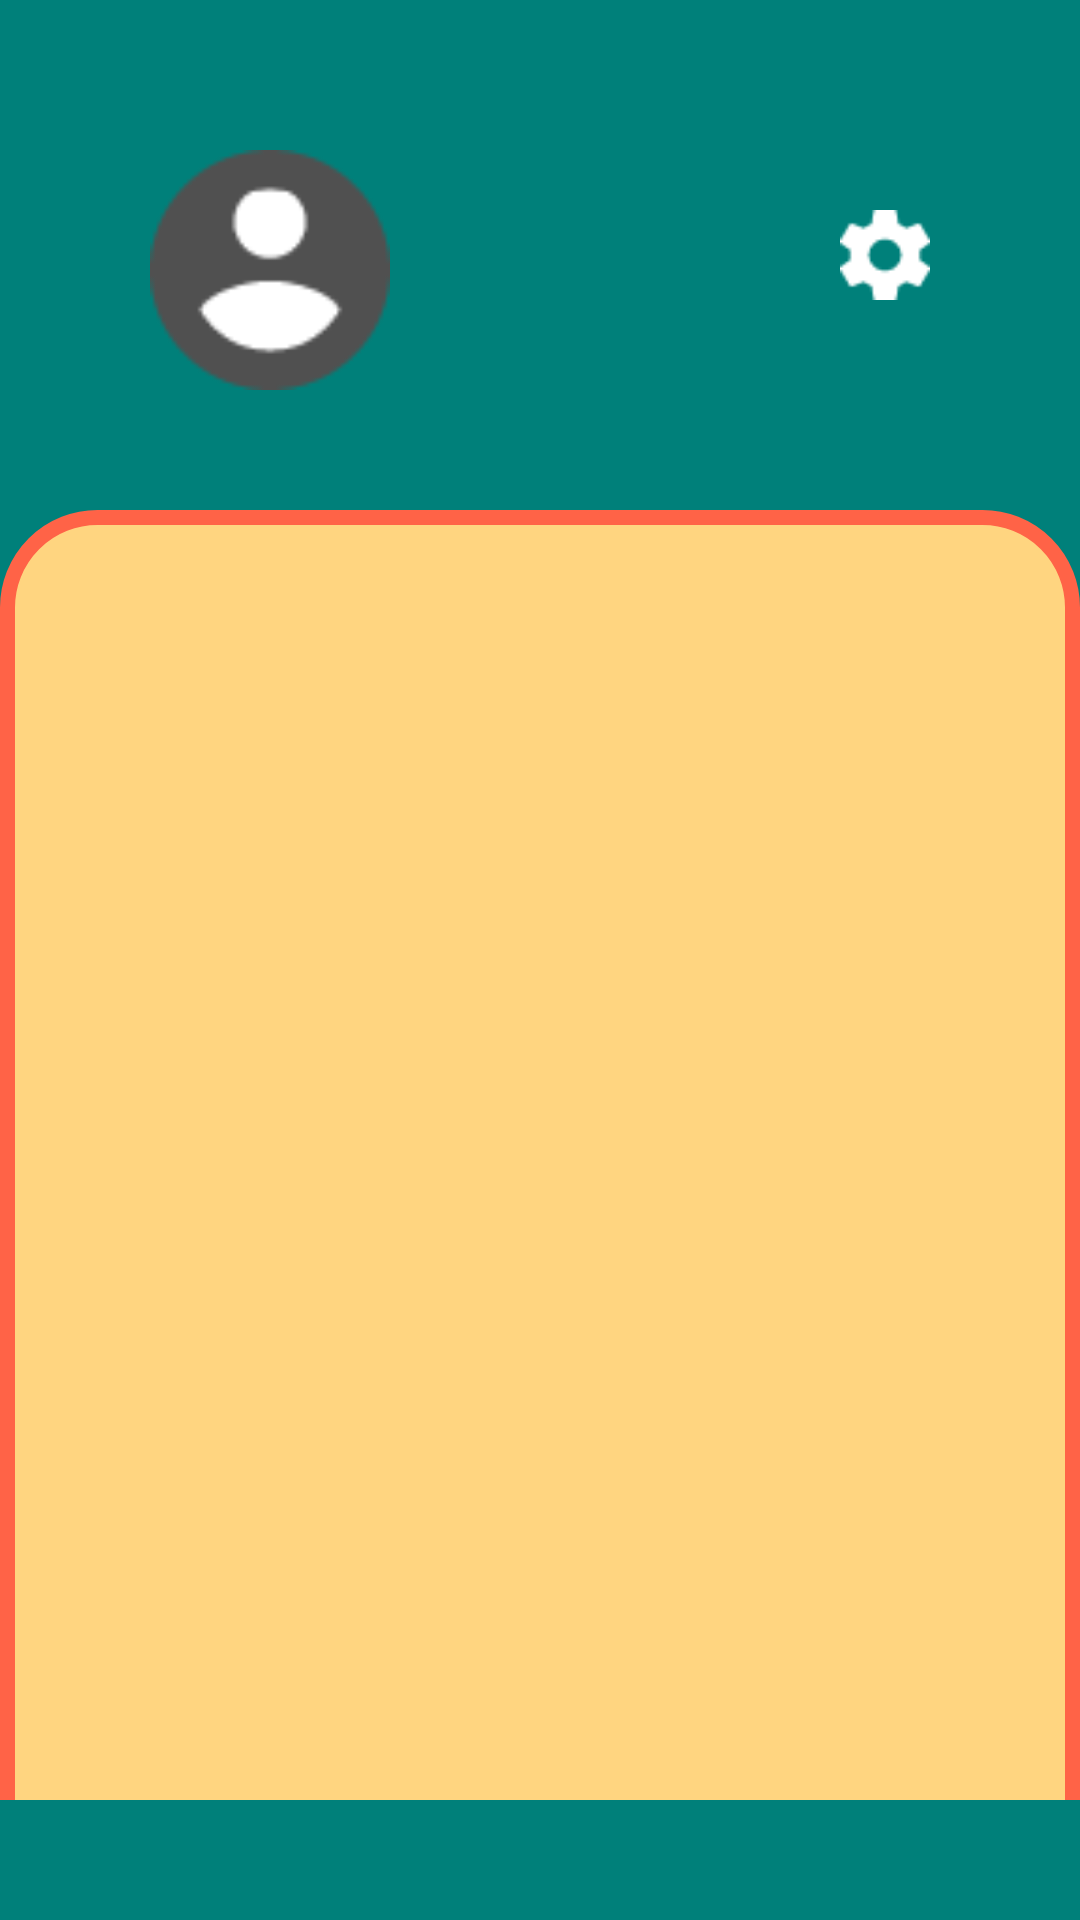

Icon click points for this 1080w x 1920h phone screenshot, format (x,y):
profile topleft: (270,270)
settings: (885,255)
